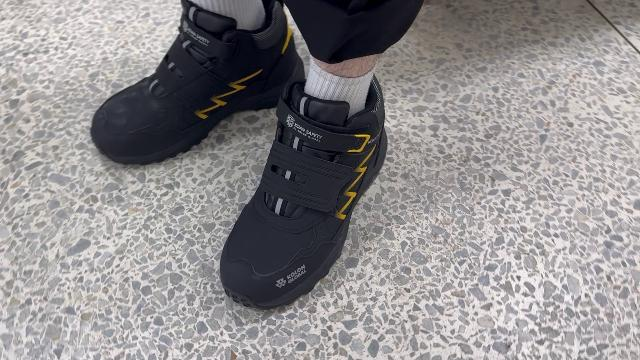shoe_worn: (210, 79, 392, 316), (87, 4, 312, 169)
